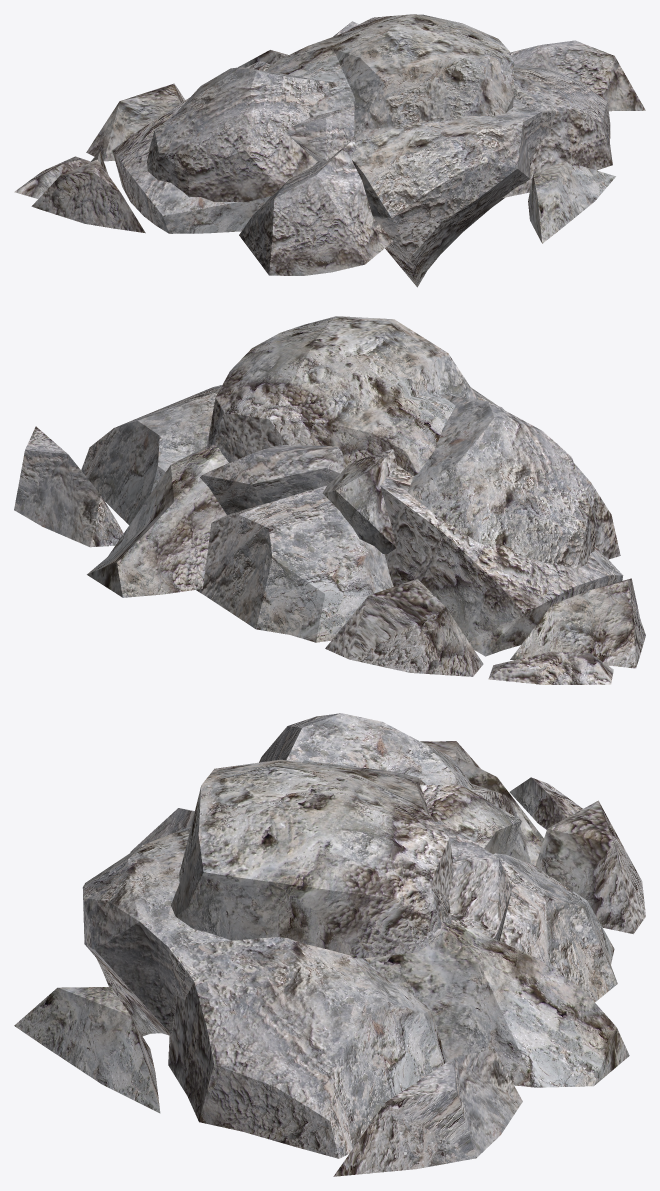
The model's file is rock-2.gltf.
3 views of the same model, one above another, from view 1: azimuth 30°, elevation 25°; view 2: azimuth 150°, elevation 25°; view 3: azimuth 270°, elevation 25° (orthographic). The views are drawn at different scales.
Parts seen in each view (by area): view 1: LP_B-Rocks_03; view 2: LP_B-Rocks_03; view 3: LP_B-Rocks_03.
Boxes of the visible parts, x1=… form: LP_B-Rocks_03: x1=14, y1=14, x2=645, y2=287; LP_B-Rocks_03: x1=14, y1=316, x2=645, y2=684; LP_B-Rocks_03: x1=14, y1=713, x2=645, y2=1176.
Size of the model in its own units: 10.65 by 3.75 by 7.22.
Materials: 1 (1 with a texture image).
